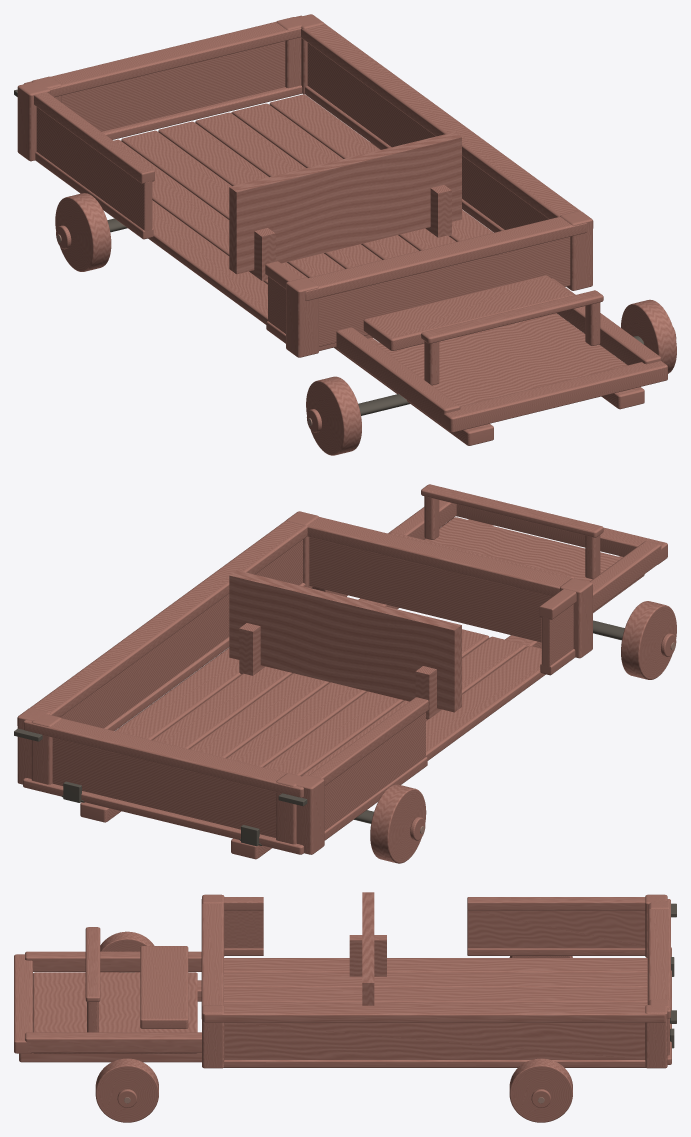
File: zombie-crew-cart-wooden.glb
The picture shows the model from 3 angles, top to bottom: view 1: azimuth 30°, elevation 25°; view 2: azimuth 150°, elevation 25°; view 3: azimuth 270°, elevation 25°; orthographic projection. The views are drawn at different scales.
Visible parts, largest first — view 1: giant_bench, driver_floor, rear_gate_panel, cargo_front_partition, side_top_rail_1, side_panel_1, partition_top_cap, driver_seat, driver_front_lip, side_panel_-1_bay_0, rear_gate_top_rail, rear_floor_plank_00 (+27 smaller); view 2: giant_bench, cargo_front_partition, rear_gate_panel, side_top_rail_1, side_panel_1, partition_top_cap, rear_gate_top_rail, driver_floor, side_panel_-1_bay_0, rear_floor_plank_00, rear_floor_plank_02, rear_floor_plank_03 (+29 smaller); view 3: side_panel_1, side_top_rail_1, side_panel_-1_bay_0, driver_floor, rear_floor_plank_02, rear_floor_plank_01, rear_floor_plank_00, driver_seat, front_long_timber_1, side_bottom_rail_1, solid_wheel_FalseTrue, solid_wheel_TrueTrue (+19 smaller).
Boxes of the visible parts, bbox=[...] form: giant_bench: bbox=[229, 132, 461, 274]; driver_floor: bbox=[375, 313, 627, 406]; rear_gate_panel: bbox=[62, 41, 285, 131]; cargo_front_partition: bbox=[319, 237, 570, 346]; side_top_rail_1: bbox=[301, 23, 593, 228]; side_panel_1: bbox=[307, 43, 548, 229]; partition_top_cap: bbox=[305, 217, 587, 300]; driver_seat: bbox=[363, 275, 573, 350]; driver_front_lip: bbox=[441, 361, 667, 432]; side_panel_-1_bay_0: bbox=[36, 107, 152, 231]; rear_gate_top_rail: bbox=[24, 15, 302, 97]; rear_floor_plank_00: bbox=[148, 200, 336, 350]; giant_bench: bbox=[229, 570, 461, 712]; cargo_front_partition: bbox=[309, 537, 552, 642]; rear_gate_panel: bbox=[52, 737, 275, 837]; side_top_rail_1: bbox=[17, 520, 307, 725]; side_panel_1: bbox=[60, 539, 302, 728]; partition_top_cap: bbox=[307, 517, 571, 596]; rear_gate_top_rail: bbox=[23, 718, 303, 797]; driver_floor: bbox=[424, 517, 621, 581]; side_panel_-1_bay_0: bbox=[324, 712, 425, 830]; rear_floor_plank_00: bbox=[426, 645, 545, 760]; rear_floor_plank_02: bbox=[263, 629, 489, 775]; rear_floor_plank_03: bbox=[226, 682, 366, 767]; side_panel_1: bbox=[224, 1022, 645, 1059]; side_top_rail_1: bbox=[203, 1005, 666, 1022]; side_panel_-1_bay_0: bbox=[467, 910, 645, 948]; driver_floor: bbox=[33, 972, 197, 1053]; rear_floor_plank_02: bbox=[224, 988, 647, 1002]; rear_floor_plank_01: bbox=[224, 973, 647, 987]; rear_floor_plank_00: bbox=[224, 958, 647, 972]; driver_seat: bbox=[140, 946, 188, 1028]; front_long_timber_1: bbox=[25, 1032, 201, 1052]; side_bottom_rail_1: bbox=[224, 1060, 645, 1067]; solid_wheel_FalseTrue: bbox=[509, 1058, 572, 1122]; solid_wheel_TrueTrue: bbox=[95, 1058, 158, 1122].
Bounding box in the file's own units: 3.72 × 1.4 × 7.1.
4 materials, 2 textured.
